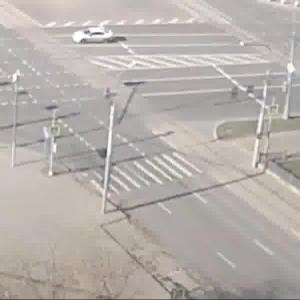car: (74, 25, 115, 48)
